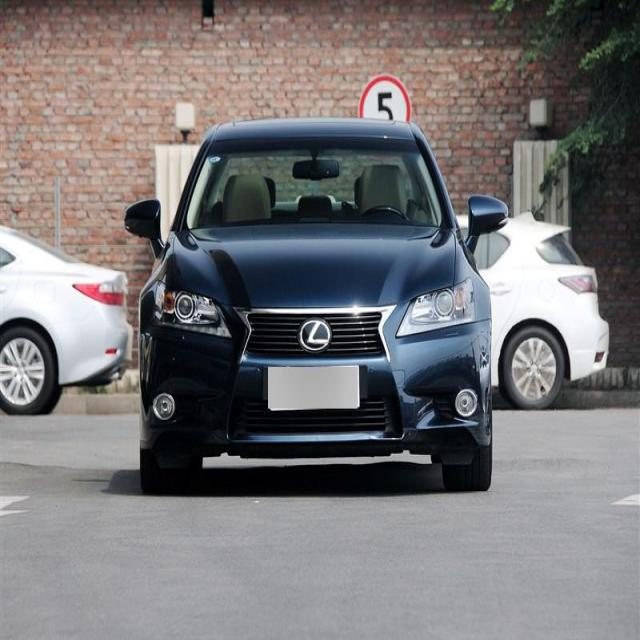front_bumper: (136, 324, 492, 457)
front_glass: (182, 136, 446, 236)
front_left_side_light: (394, 274, 477, 342)
front_left_side_mirror: (464, 192, 511, 249)
front_right_side_light: (150, 274, 233, 343)
front_right_side_mirror: (121, 194, 169, 256)
